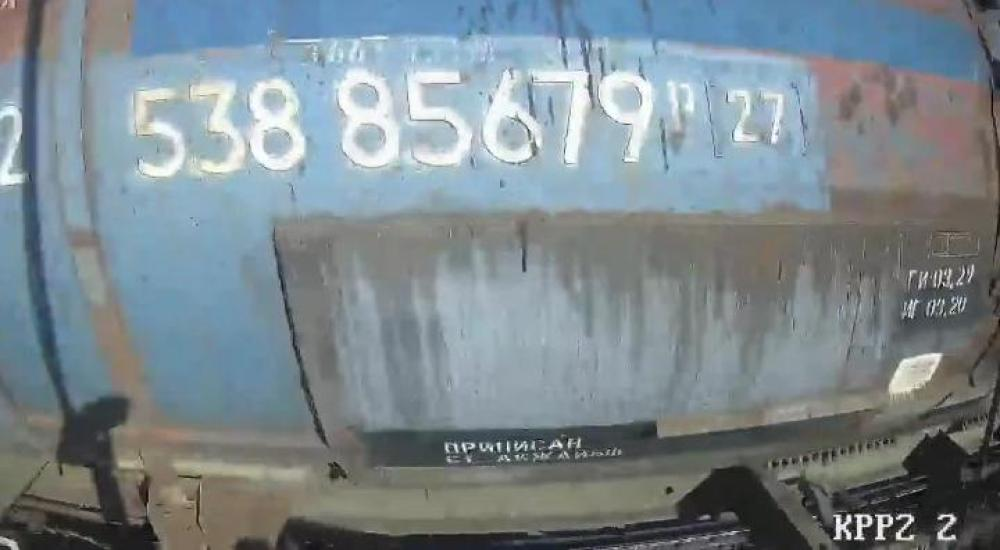Wagon-number: (126, 67, 665, 185)
